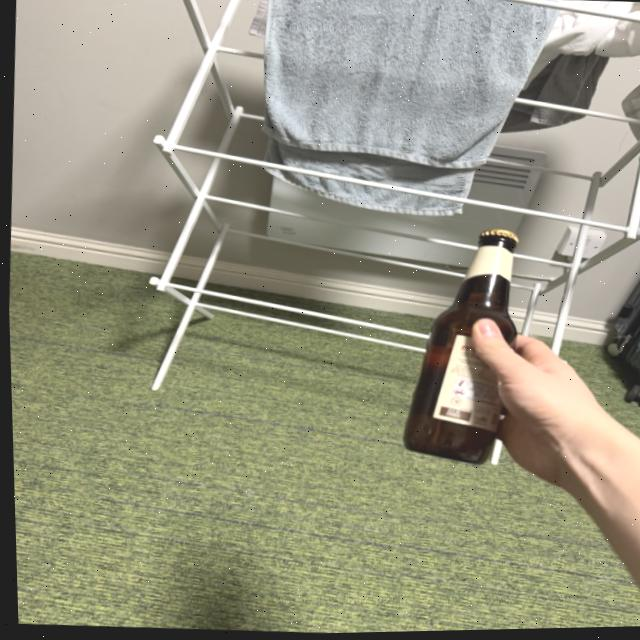beer: (396, 225, 526, 471)
